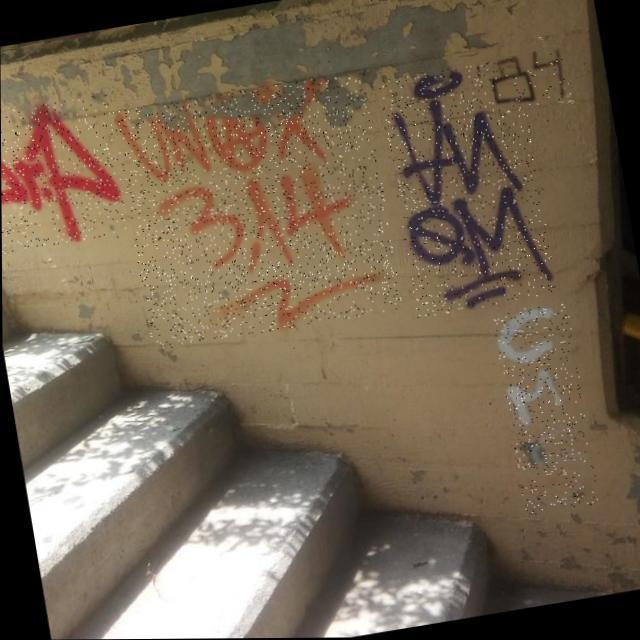-: (112, 70, 403, 352), (378, 58, 558, 319), (492, 302, 600, 517), (0, 93, 130, 256), (488, 49, 572, 112)
